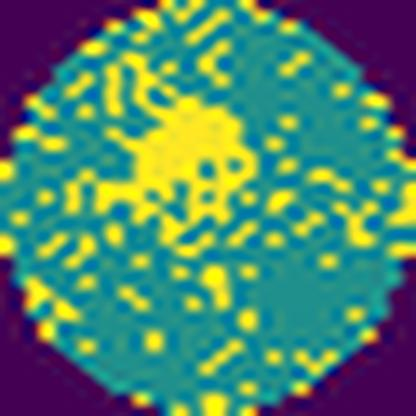Loc: (91, 49, 260, 261)
